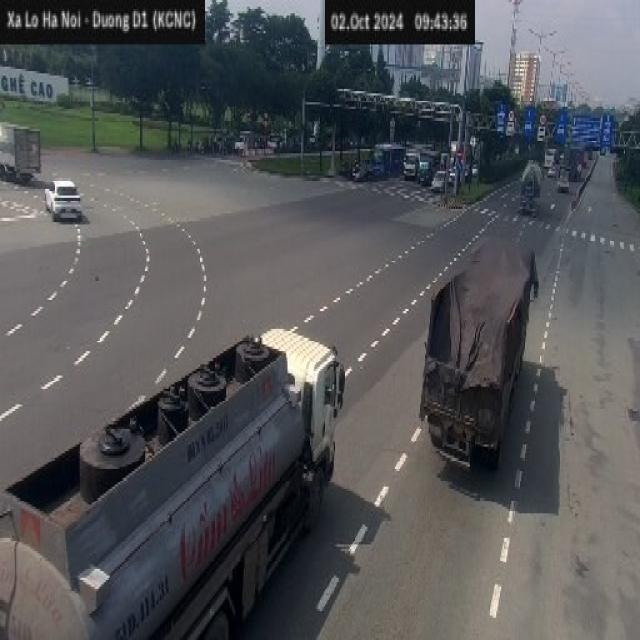car: (44, 178, 81, 220)
truck: (0, 324, 345, 638), (419, 236, 539, 471)
